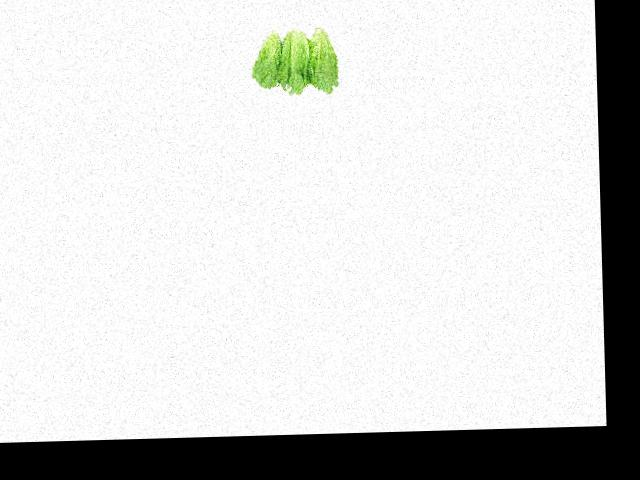lettuce: (249, 15, 287, 91)
